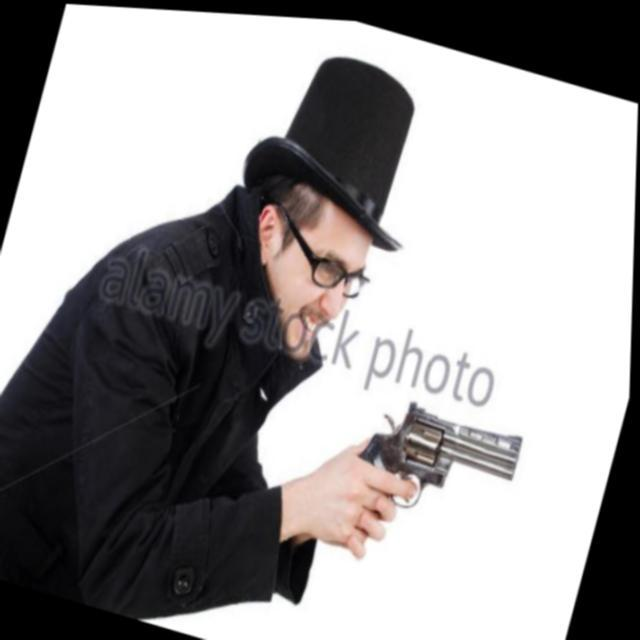weapon: (349, 382, 528, 532)
